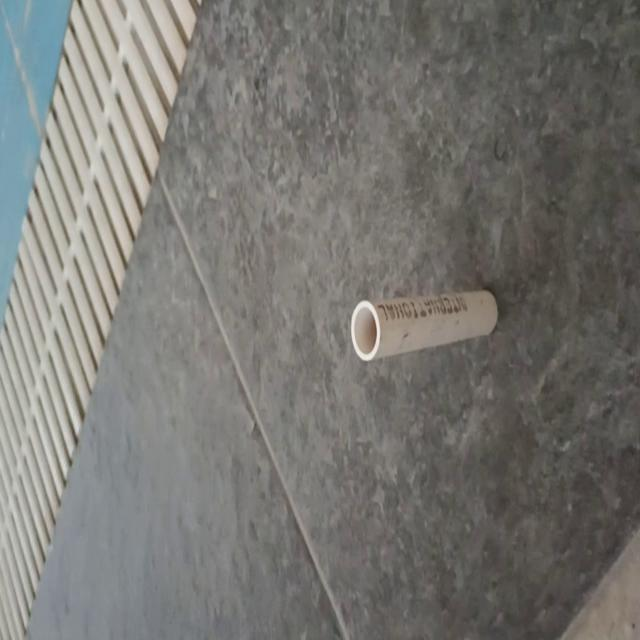Cube: (350, 287, 498, 362)
